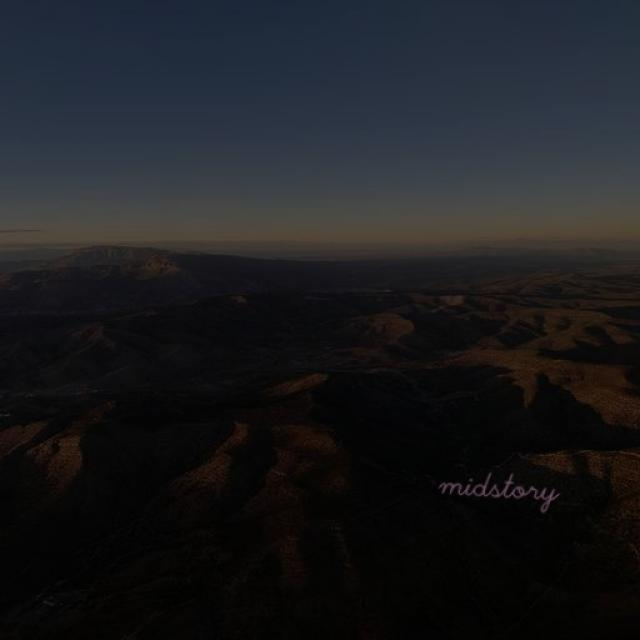watermark: (430, 468, 582, 504)
